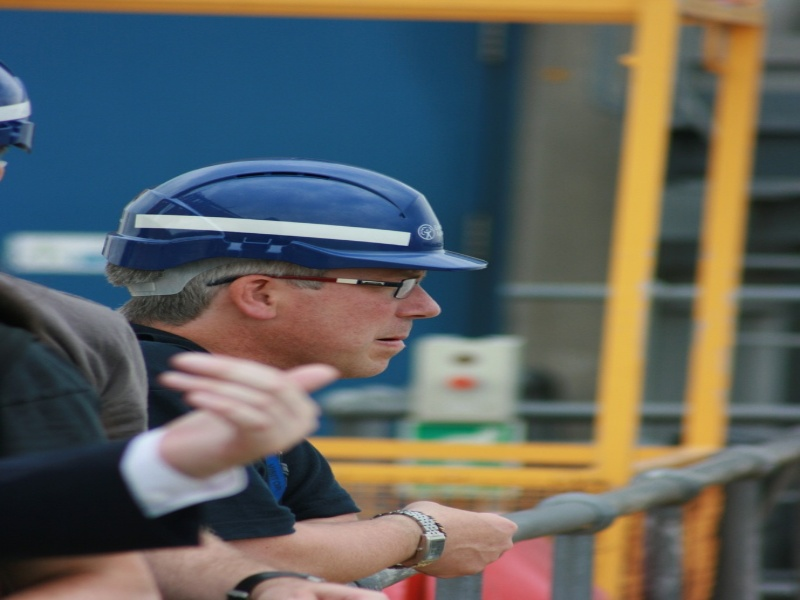helmet: (108, 158, 491, 273)
